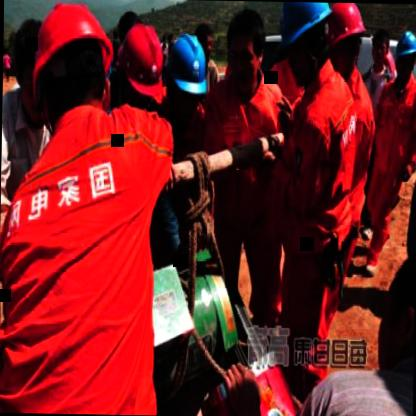head: (367, 243, 415, 378), (217, 6, 267, 94), (11, 13, 42, 124), (370, 28, 392, 72)
helmet: (25, 0, 116, 131), (274, 1, 332, 86), (162, 29, 209, 123), (117, 20, 166, 98), (323, 2, 370, 82), (395, 26, 416, 76)
